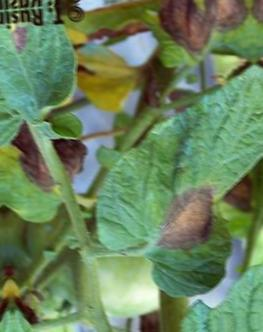Tomato leaf late blight: (69, 54, 263, 311), (154, 182, 263, 330), (0, 4, 95, 154)
